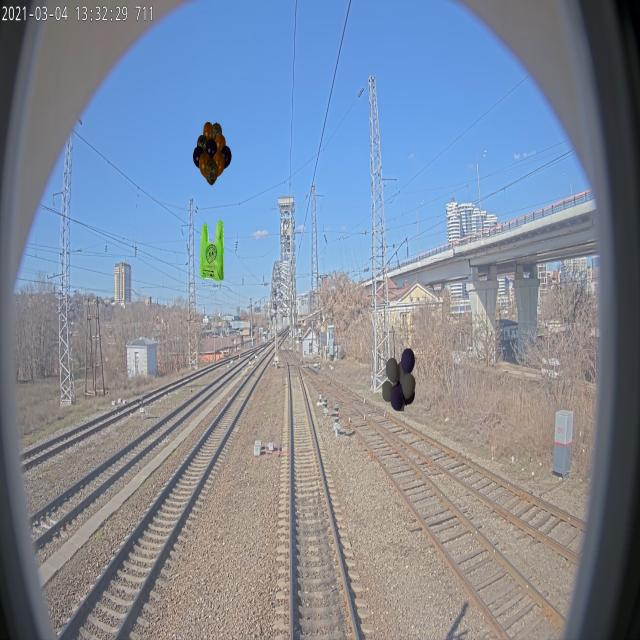balloon: (192, 121, 232, 186), (382, 348, 416, 412)
plastic bag: (199, 218, 224, 282)
